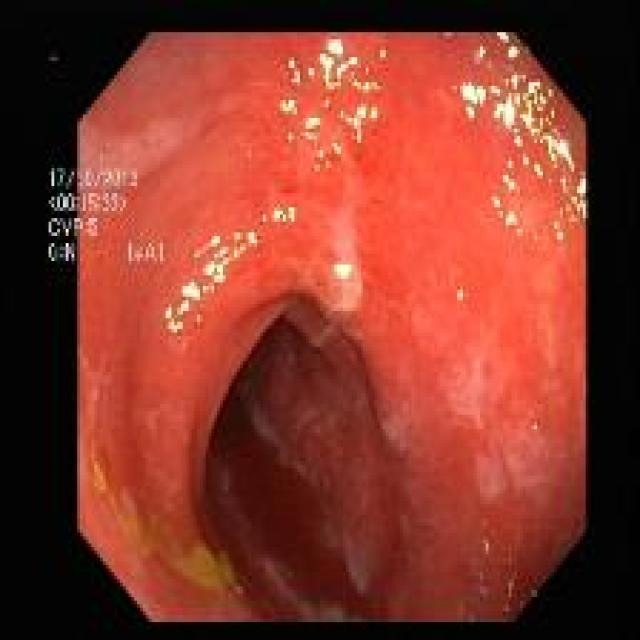ulcerative-colitis: (79, 33, 585, 621)
